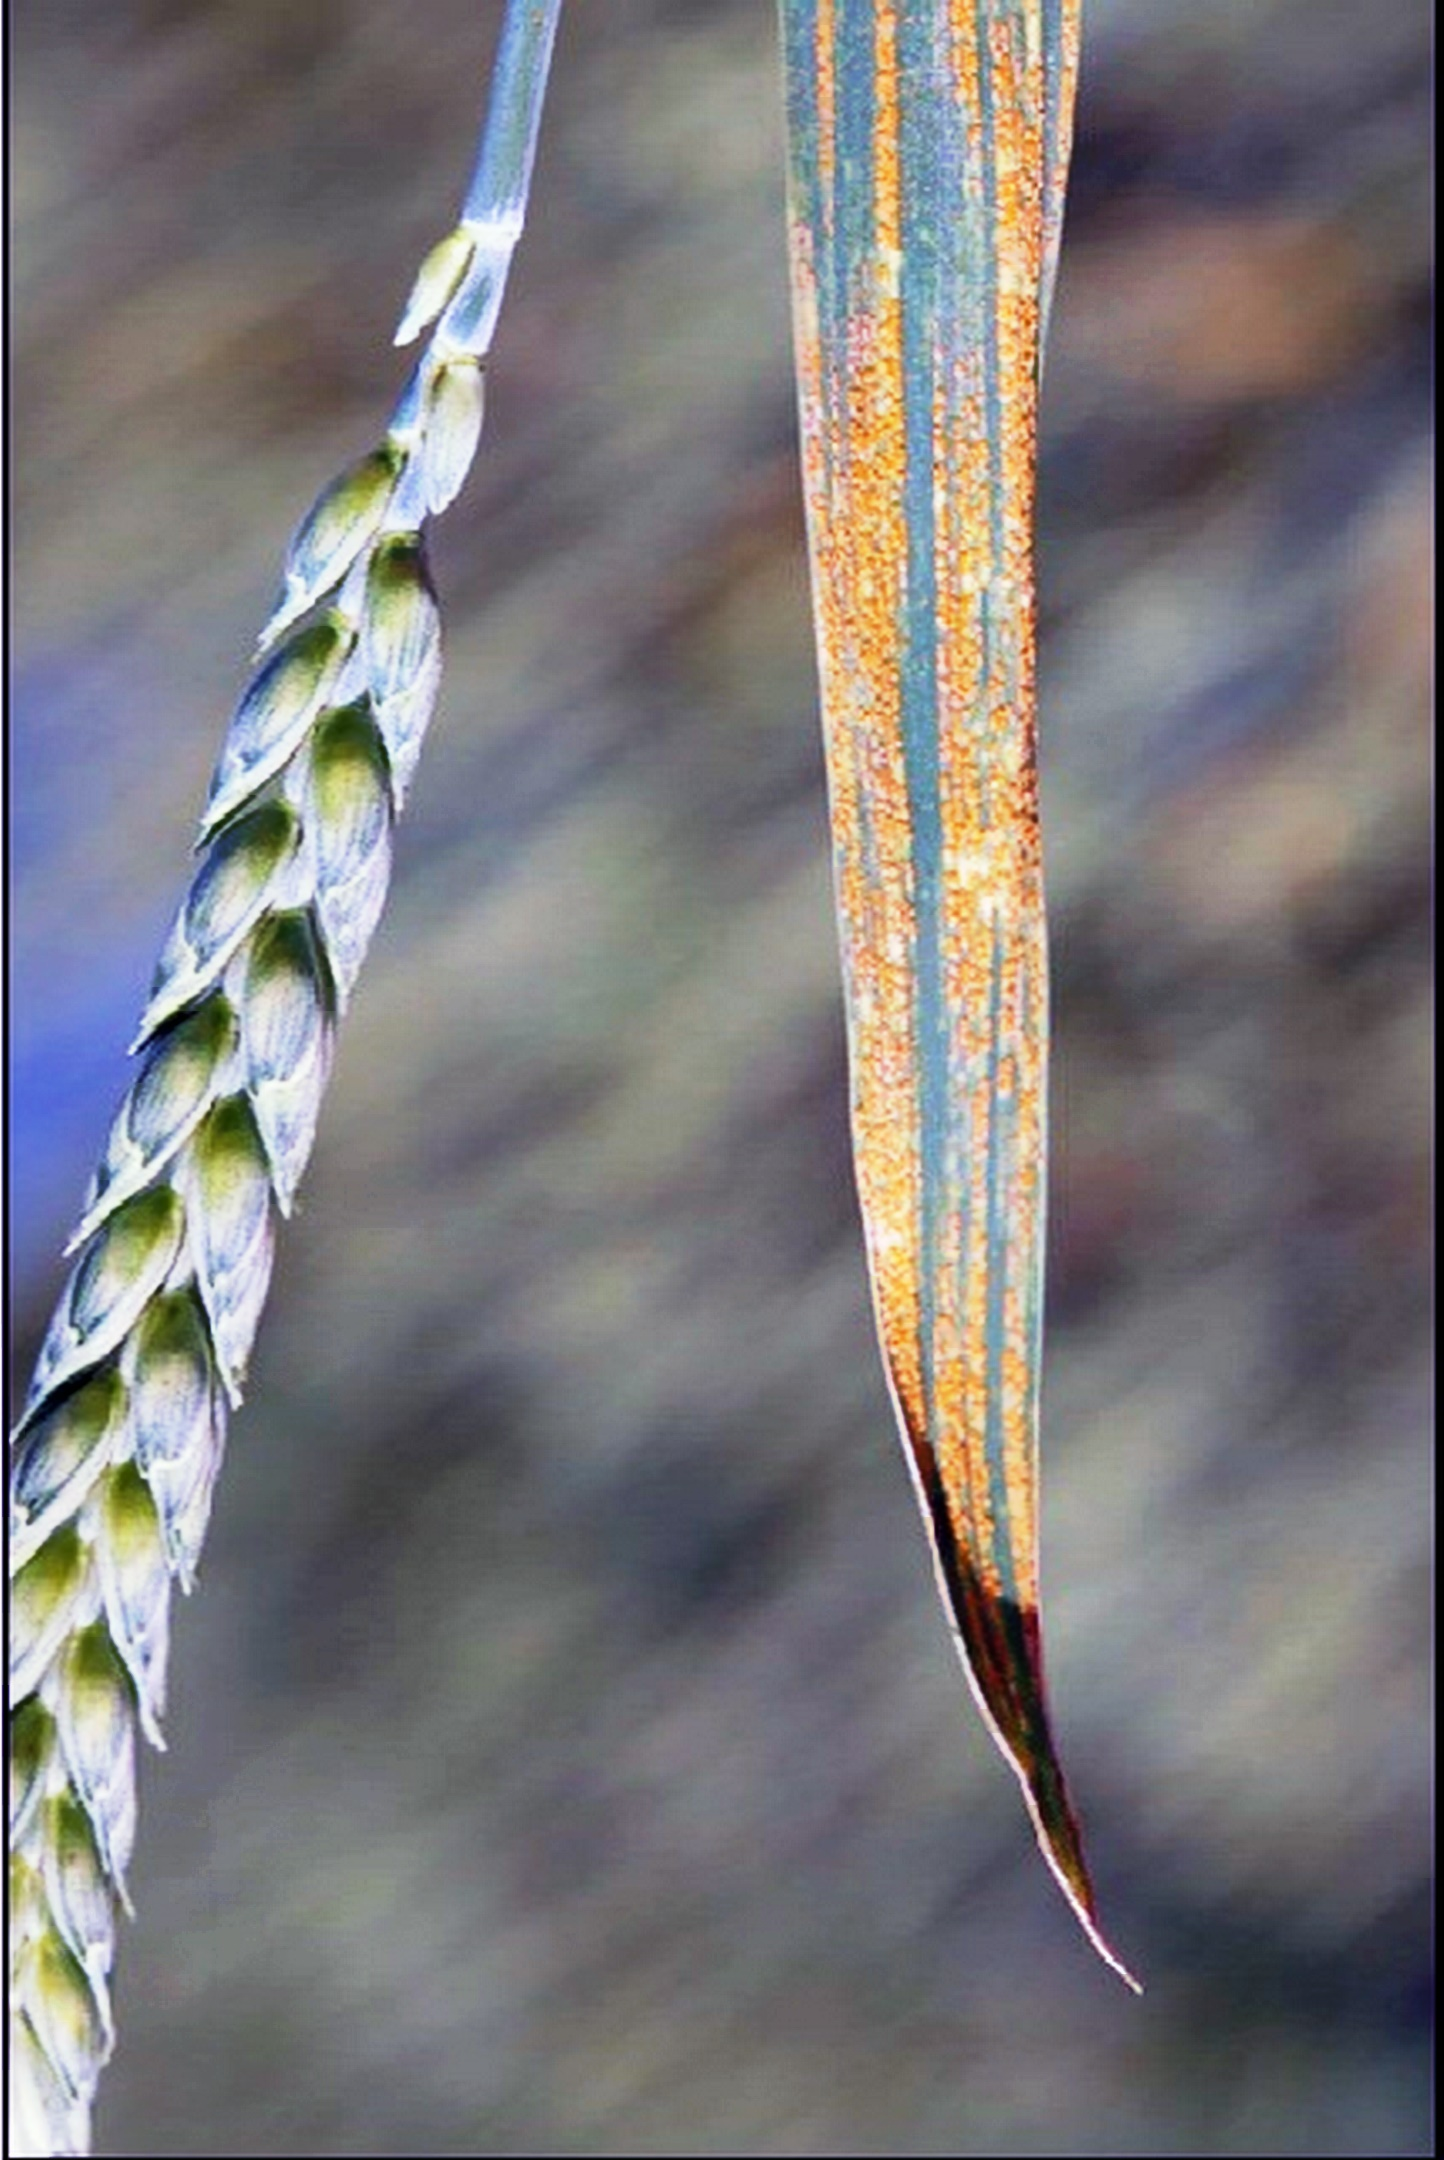Leaf Rust: (741, 2, 1152, 1641)
